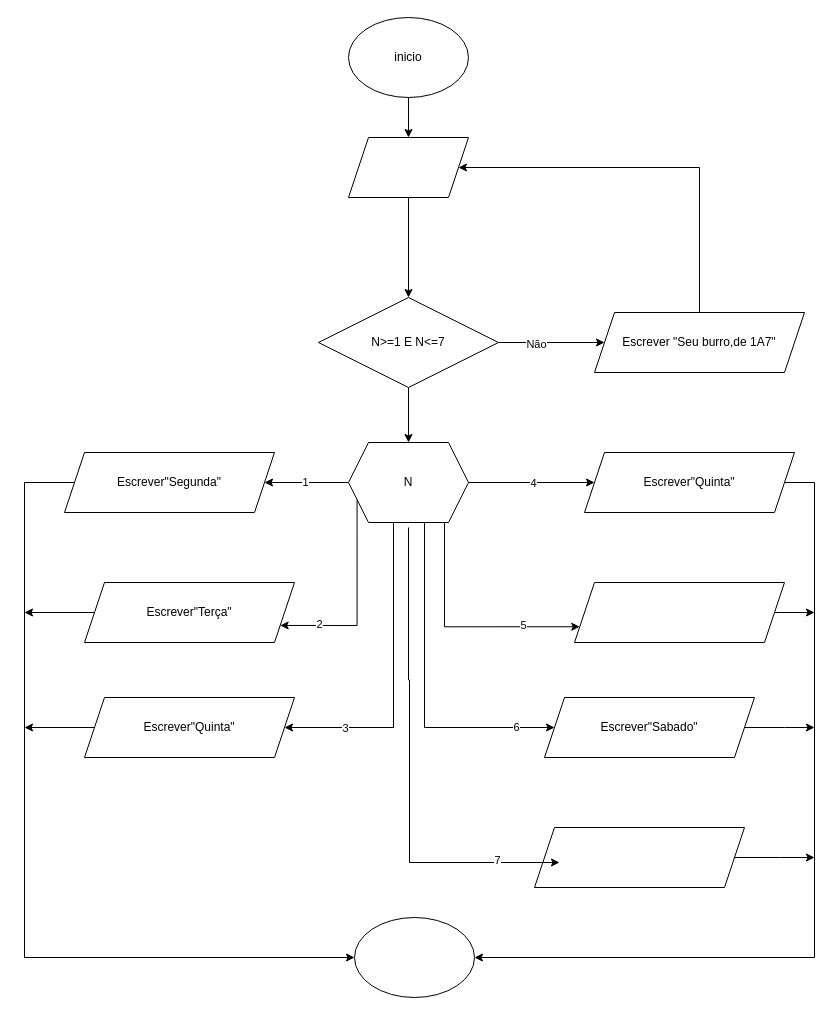
The diagram is 840 pixels wide and 1015 high, and some of its shapes have lost their labels. Each missing label, with the centre of its shape:
Escrever"Domingo": the point at 639,857
Escrever"sexta": the point at 679,612
fim: the point at 414,957
ler N: the point at 408,167
